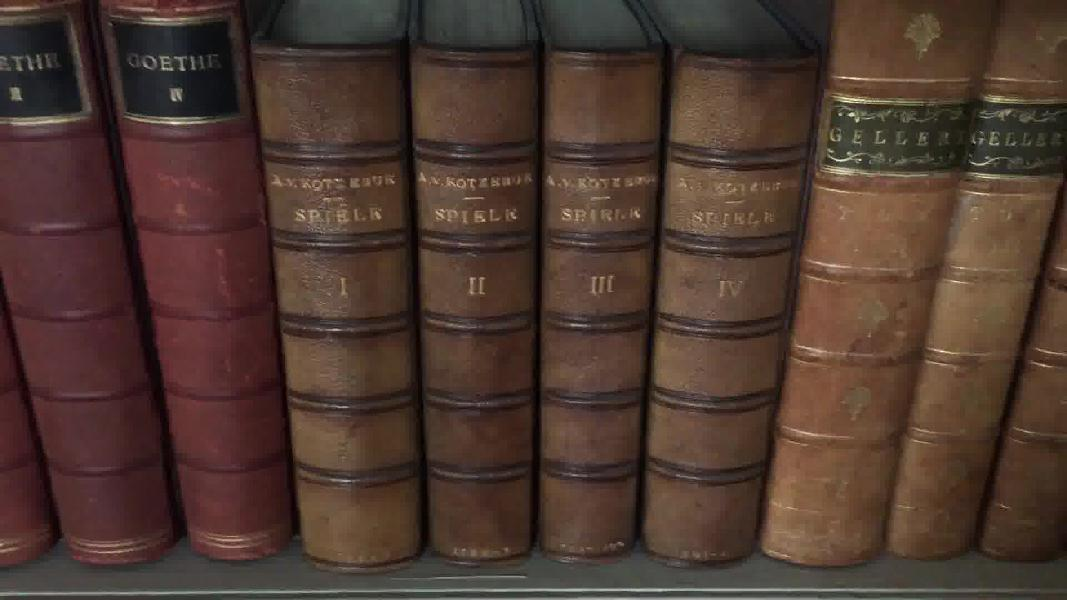Aa6-14_17: (246, 36, 815, 593)
